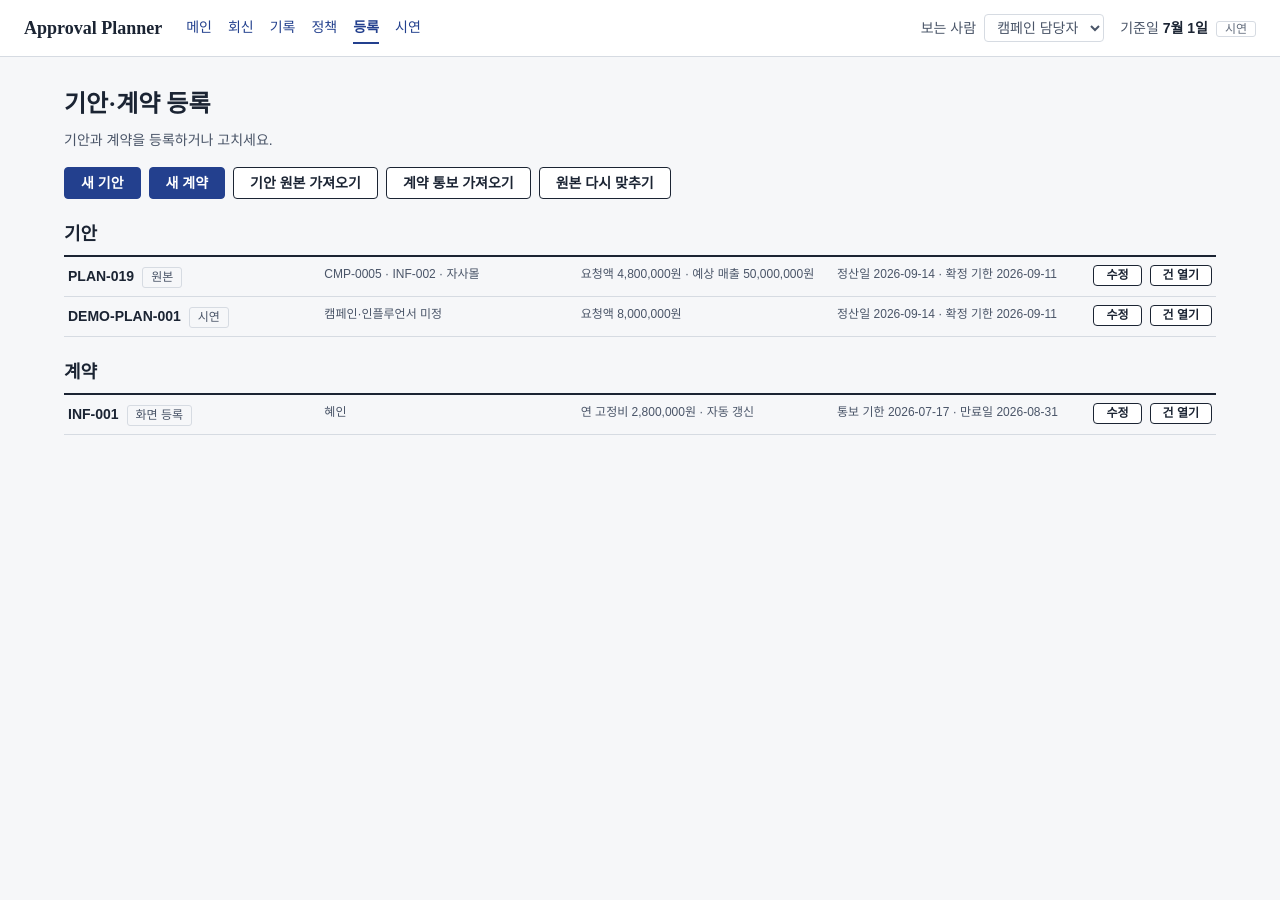
Test: 기안·계약 등록 › 수정은_바뀐_항목만_보낸다
The image size is (1280, 900).
Click the button "수정" in the row of "DEMO-PLAN-001": (1117, 316) [1093,305,1142,326]
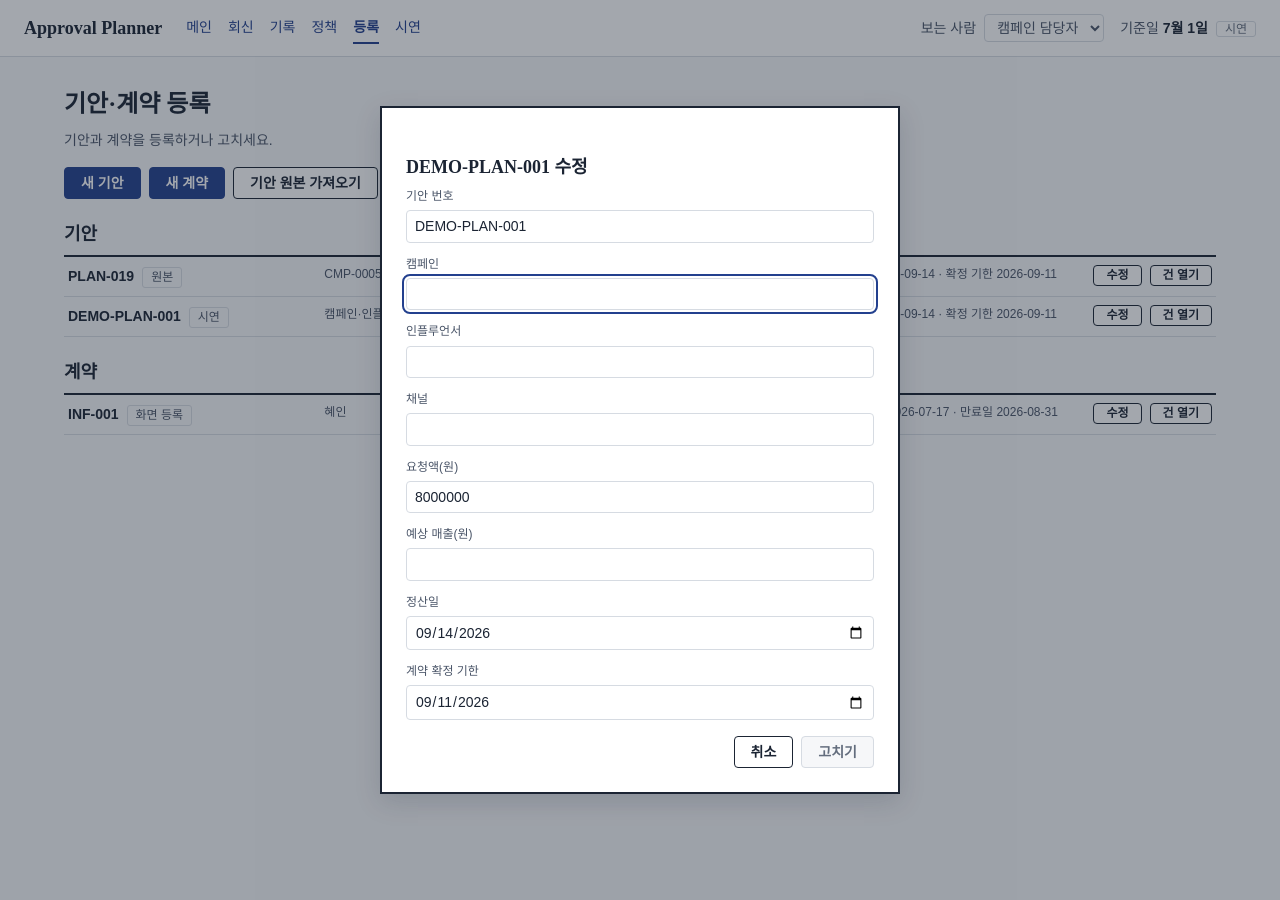
Result: the button "고치기" is disabled at [801,736,874,768]
Result: the field labelled "기안 번호" is disabled at [406,210,874,243]
Replace the text in the field labelled "요청액(원)" with "9000000": (640, 497) [406,481,874,513]
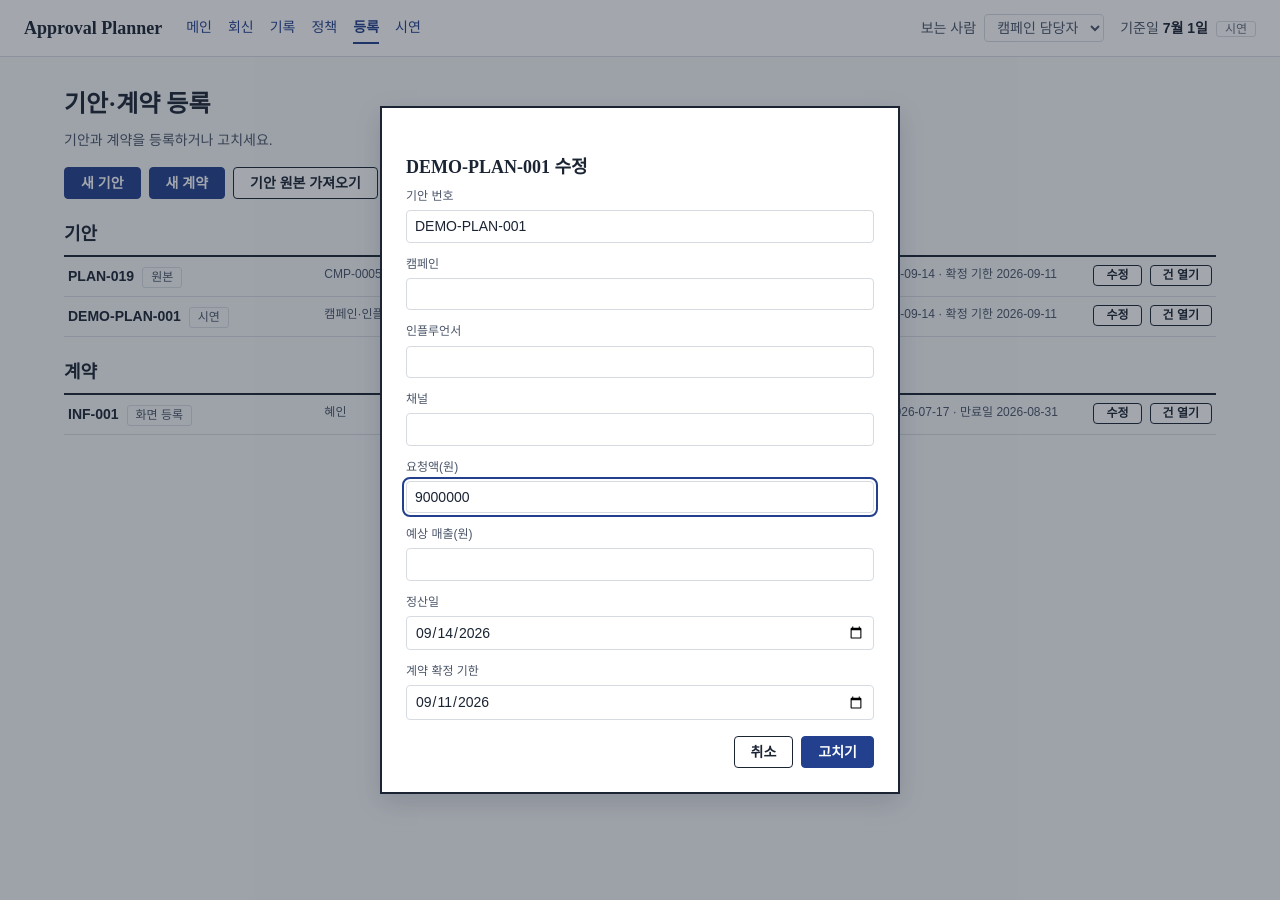
Click the button "고치기": (838, 752) [801,736,874,768]
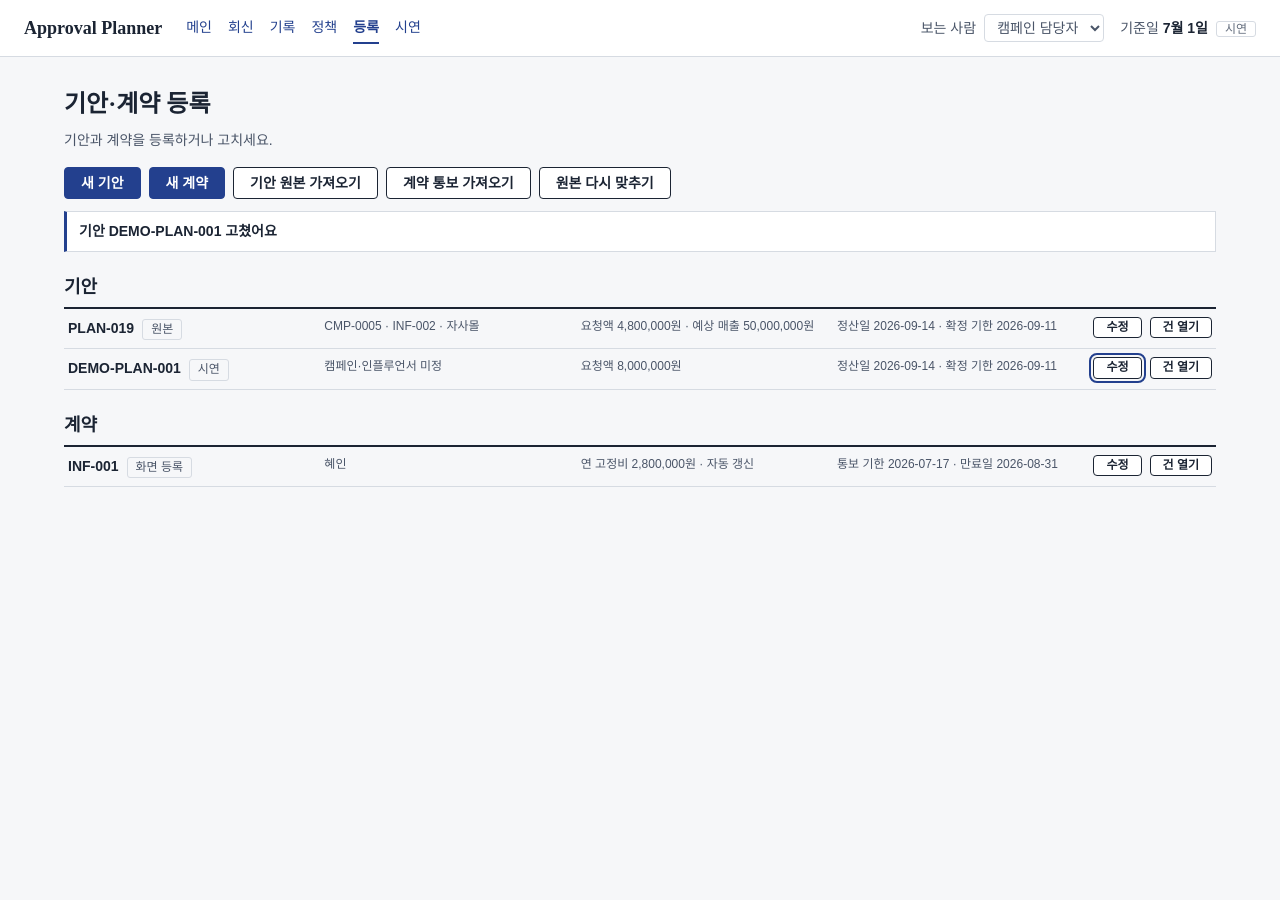
Result: the dialog is gone
